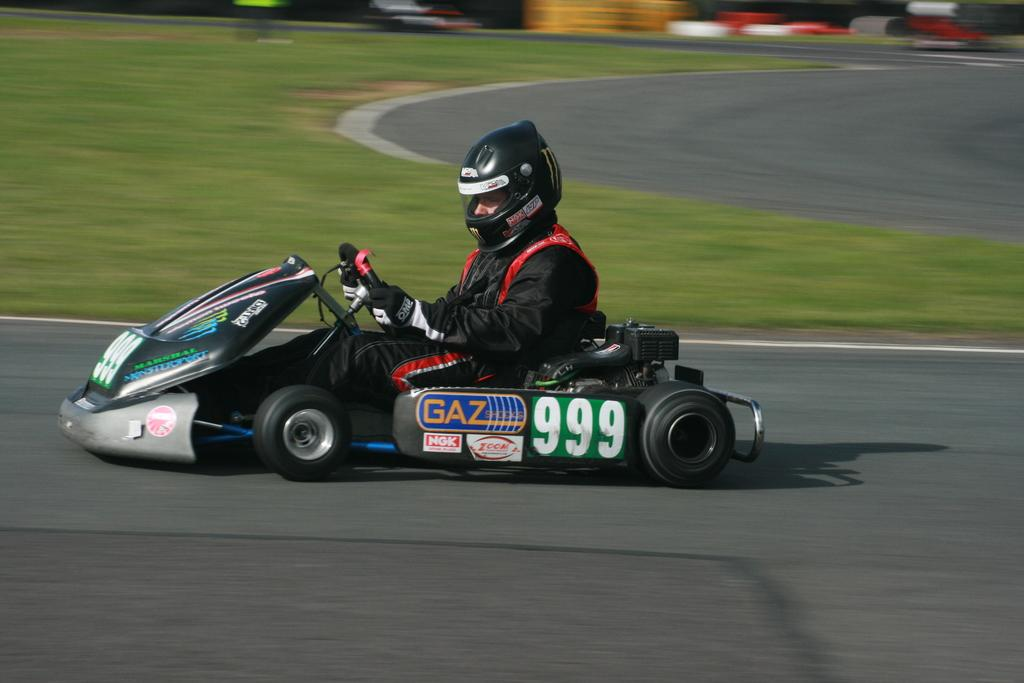helmet: (457, 119, 562, 254)
